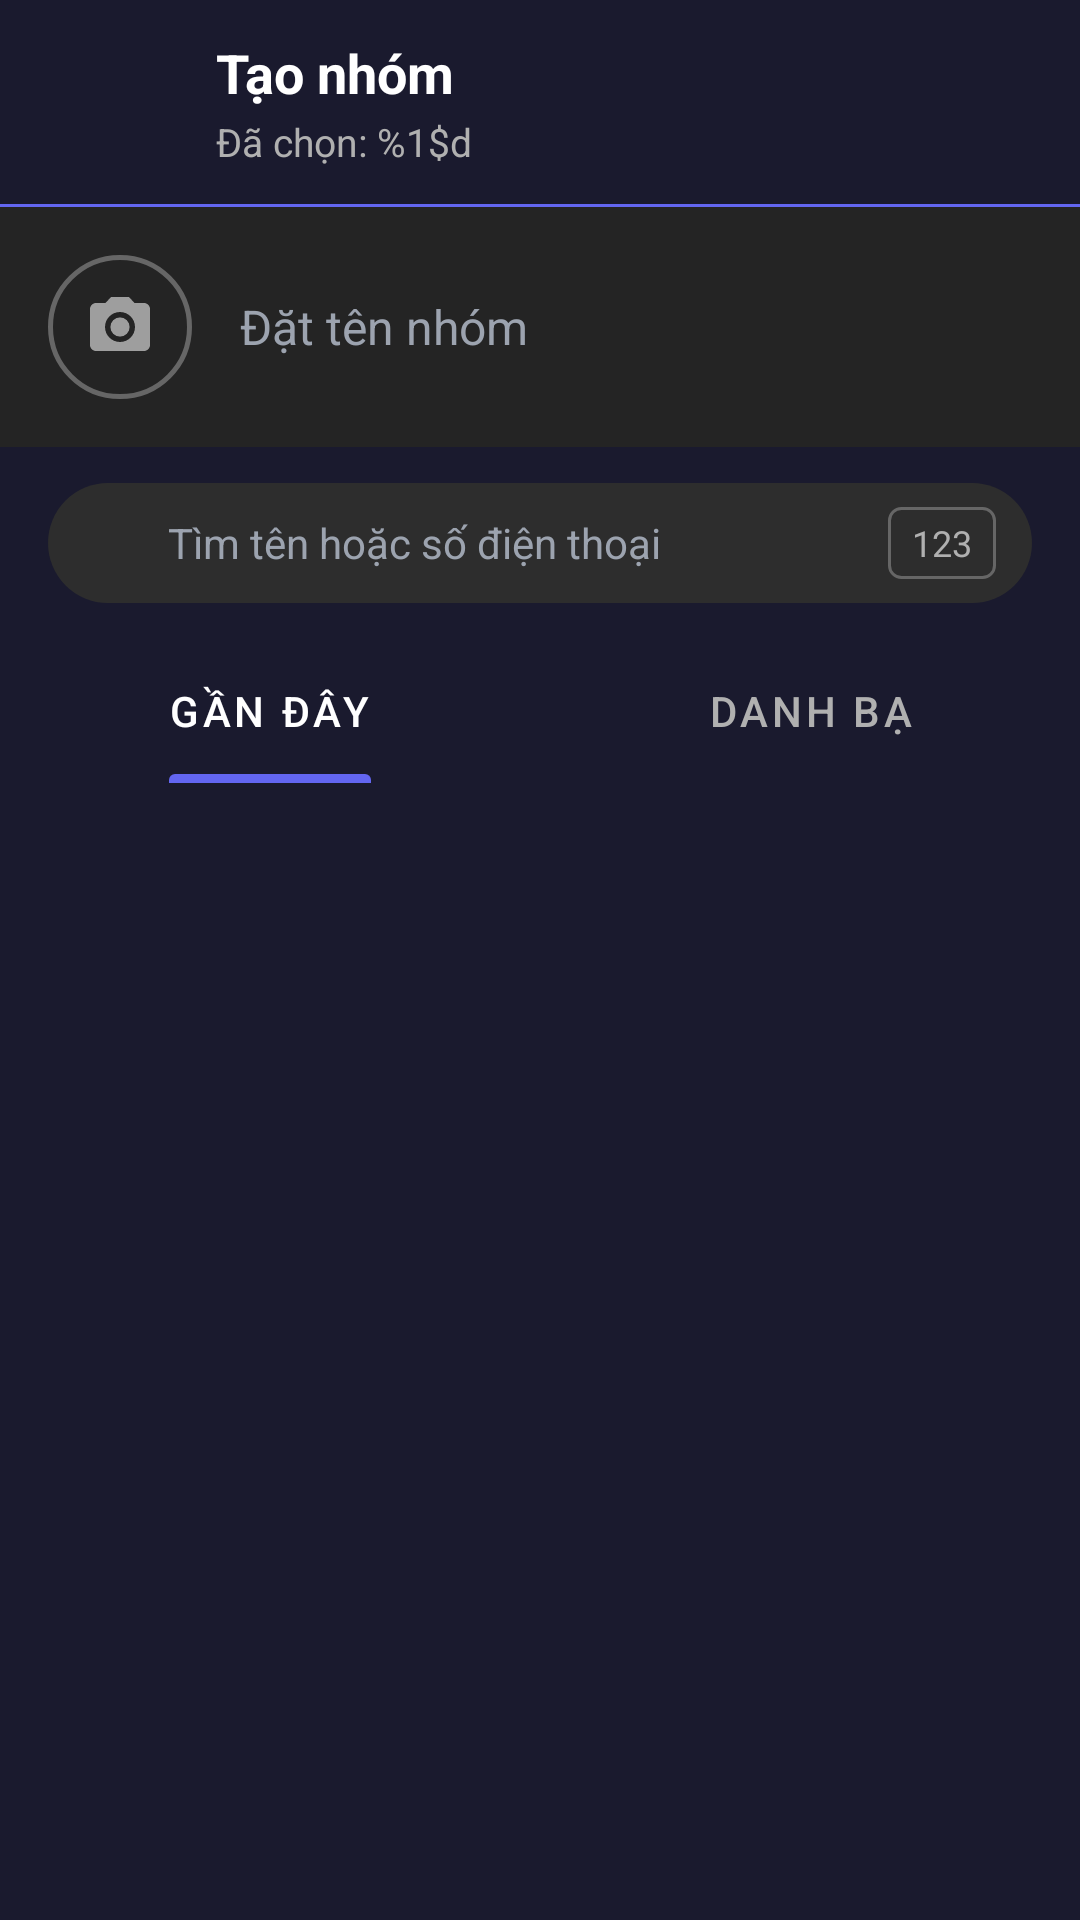

Where to tap for icons on this 1080x1920 app screen, as (x,y):
Camera: (120,324)
